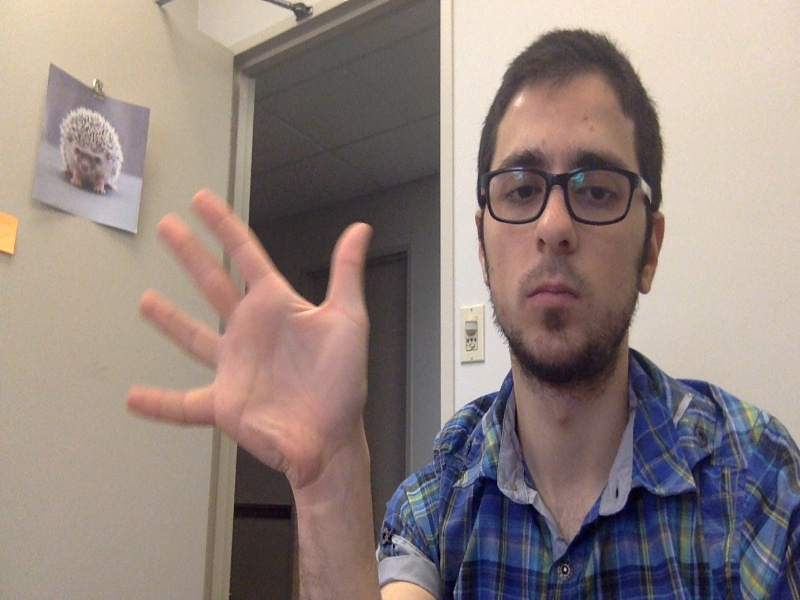5-hand: (124, 188, 374, 486)
